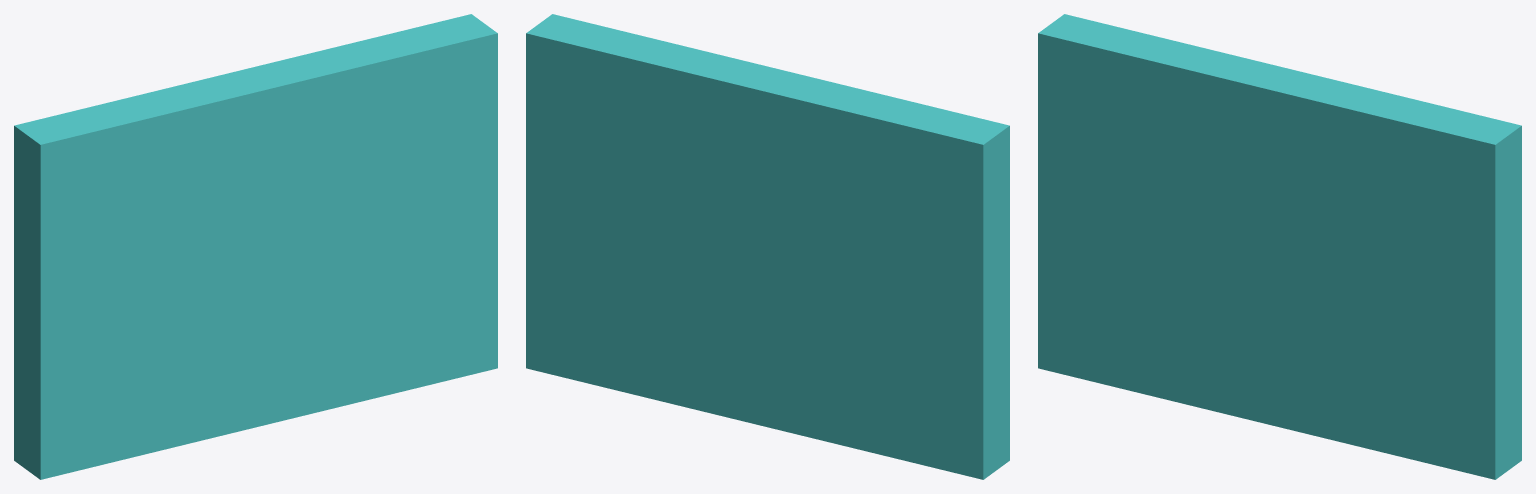
File: Door01-Window.gltf
3 renders of one model, left to right at view 1: azimuth 30°, elevation 25°; view 2: azimuth 150°, elevation 25°; view 3: azimuth 330°, elevation 25°, orthographic.
Bounding box in the file's own units: 20 × 14 × 2.
